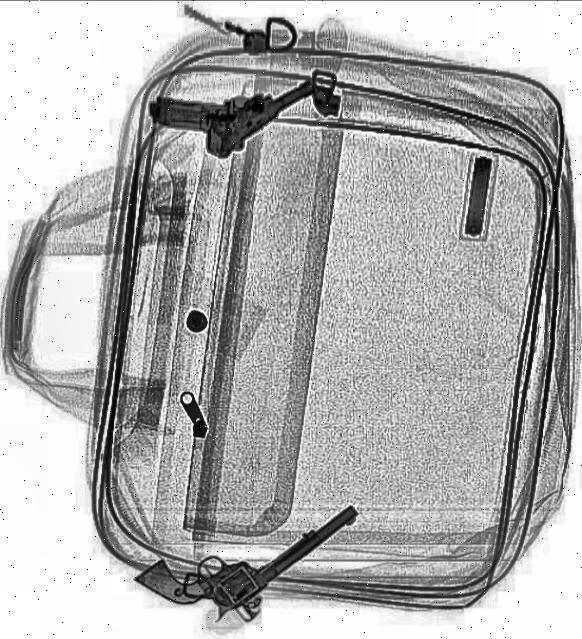Gun: (143, 447, 357, 639), (145, 23, 325, 177)
